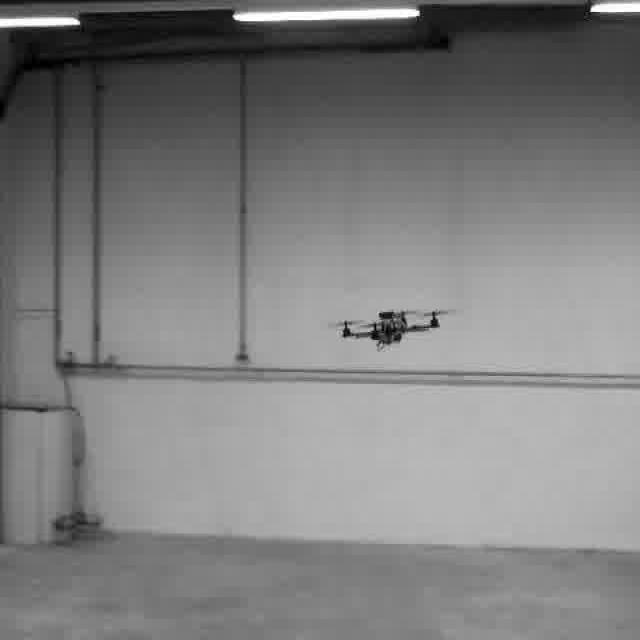drone: (333, 303, 445, 348)
